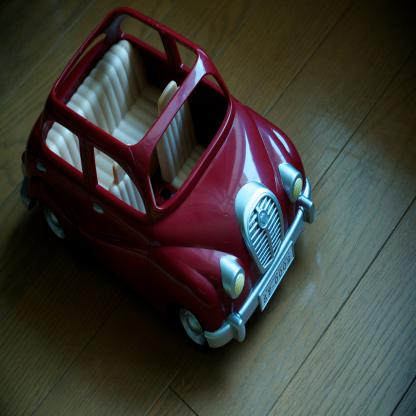Car: (34, 21, 314, 369)
